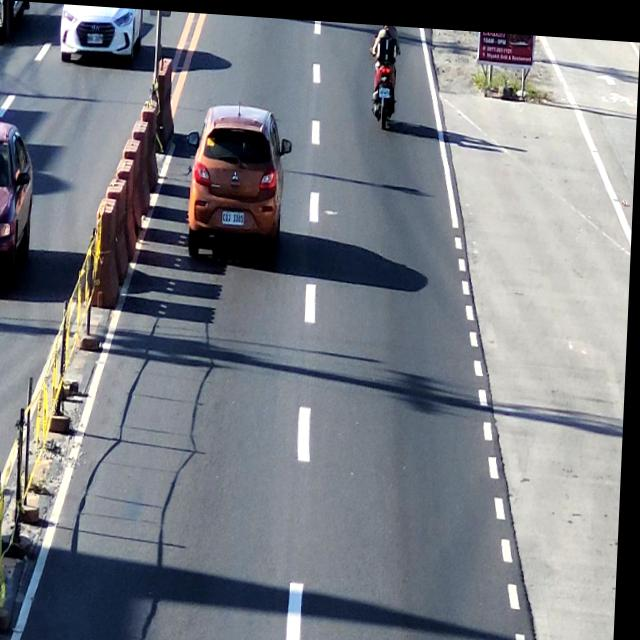Car: (188, 100, 289, 261)
License-Plate: (223, 205, 248, 222), (378, 82, 392, 95)
Motorcycle: (371, 20, 397, 124)
